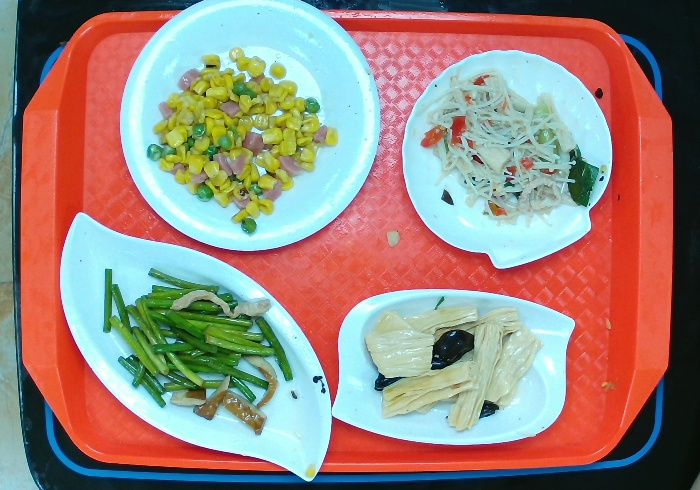RJxy-Bei_Ke_Wan: (400, 47, 616, 268)
RJxy-Jian_Jiao_Fang_Die: (329, 285, 579, 449)
RJxy-Jian_Jiao_Pan: (54, 205, 337, 485)
RJxy-Yuan_Pan: (117, 1, 382, 254)
